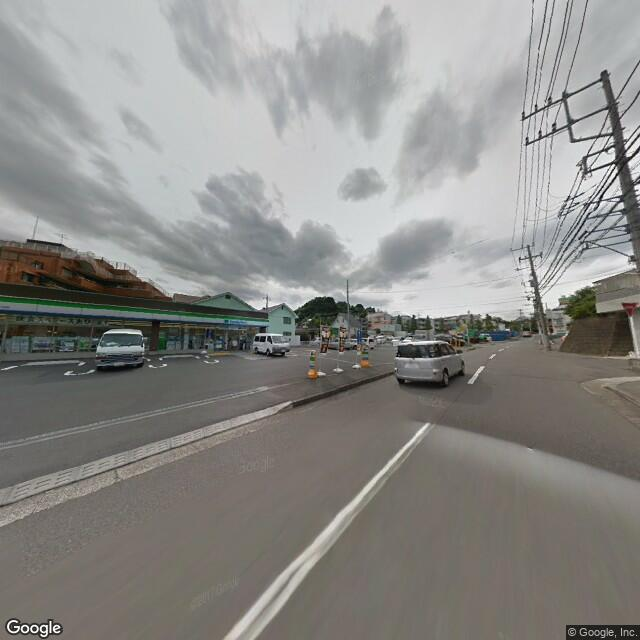family_mart: (1, 295, 268, 333)
